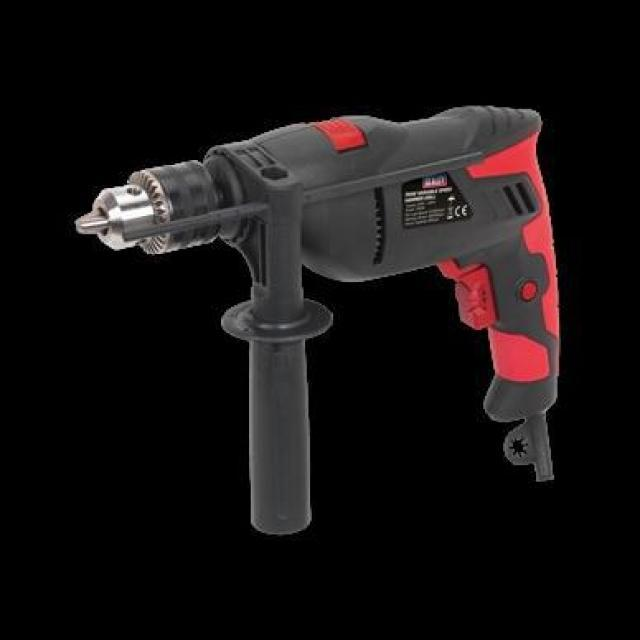drill: (74, 107, 559, 538)
